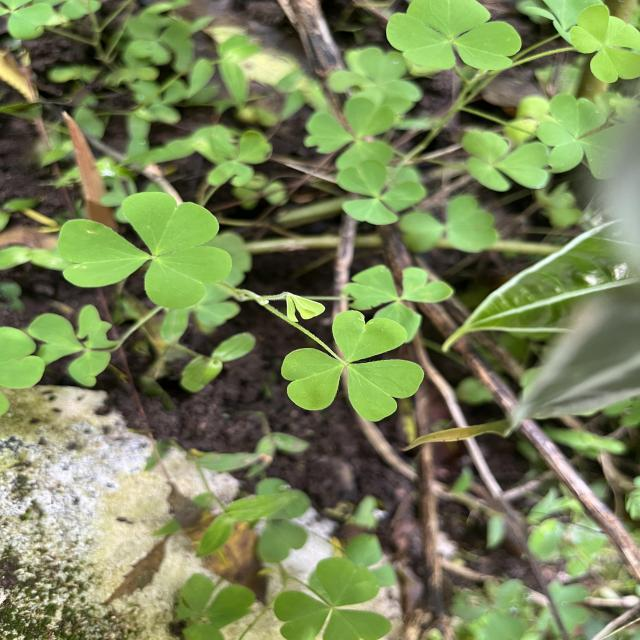Oxalis corniculata: (55, 190, 235, 311), (278, 307, 426, 423), (273, 555, 393, 640), (384, 0, 524, 72), (336, 158, 425, 227), (568, 3, 640, 84), (342, 263, 456, 311)
